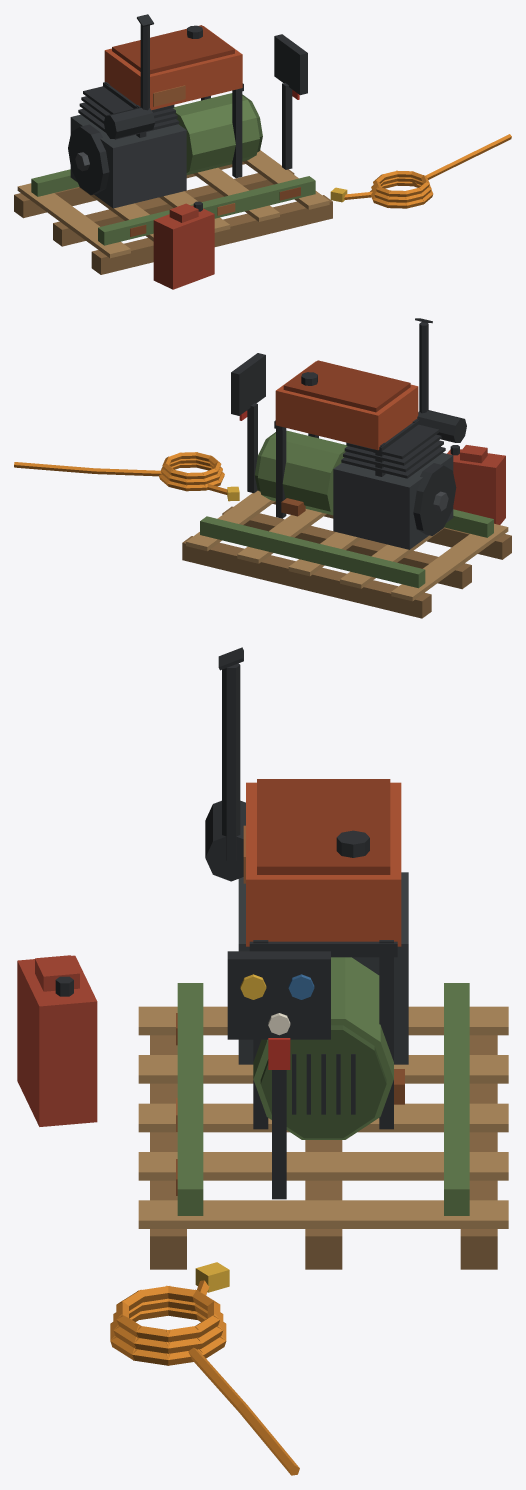
The model's file is lwf_farm_diesel_isolated_v1.glb.
3 renders of one model, top to bottom at view 1: azimuth 30°, elevation 25°; view 2: azimuth 150°, elevation 25°; view 3: azimuth 270°, elevation 25°, orthographic. The views are drawn at different scales.
Parts seen in each view (by area): view 1: LWF_FarmDiesel_Base, LWF_FarmDiesel_State_Isolated; view 2: LWF_FarmDiesel_Base, LWF_FarmDiesel_State_Isolated; view 3: LWF_FarmDiesel_Base, LWF_FarmDiesel_State_Isolated.
Part boxes in pixels (x1=…): LWF_FarmDiesel_Base: x1=14, y1=25, x2=511, y2=289; LWF_FarmDiesel_State_Isolated: x1=103, y1=14, x2=372, y2=202; LWF_FarmDiesel_Base: x1=14, y1=353, x2=511, y2=618; LWF_FarmDiesel_State_Isolated: x1=207, y1=318, x2=466, y2=501; LWF_FarmDiesel_Base: x1=17, y1=779, x2=508, y2=1475; LWF_FarmDiesel_State_Isolated: x1=191, y1=647, x2=290, y2=1311.
Size of the model in its own units: 2.78 by 1.35 by 1.33.
1 material, 1 textured.
